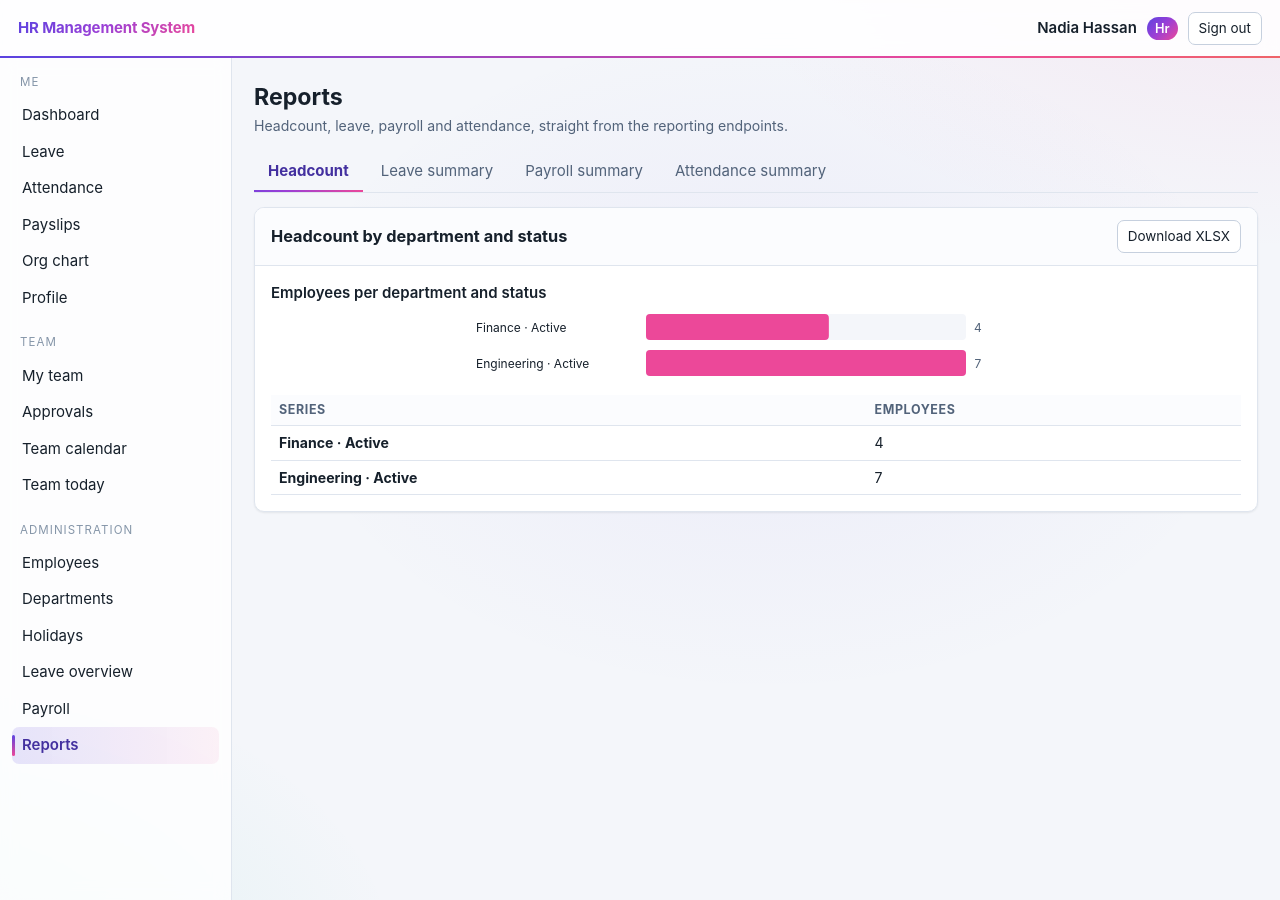
Scenario: reports › shows the empty state when no leave was recorded in the year
Click the tab "Leave summary".
click(437, 172)  # box [367,152,507,192]
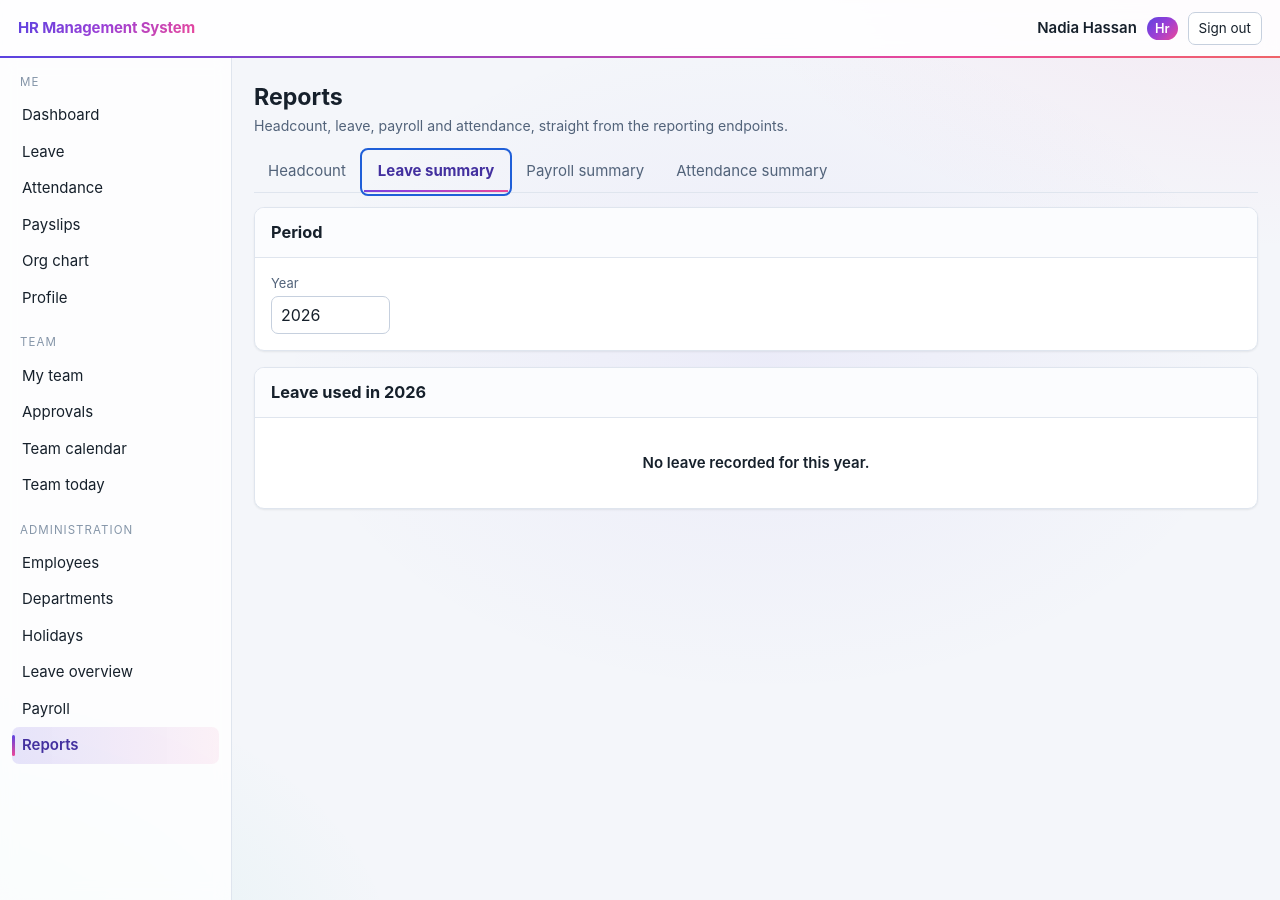
Now the text "No leave recorded for this year." is shown, box [642,453,869,472]
